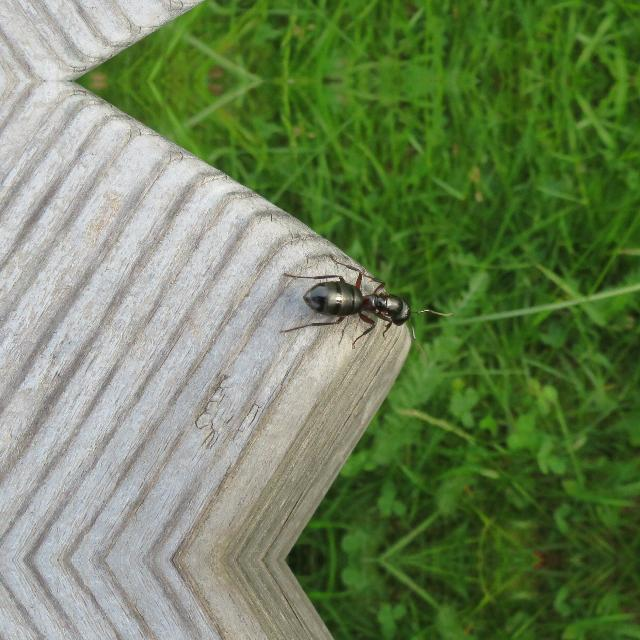Camponotus: (288, 256, 446, 346)
